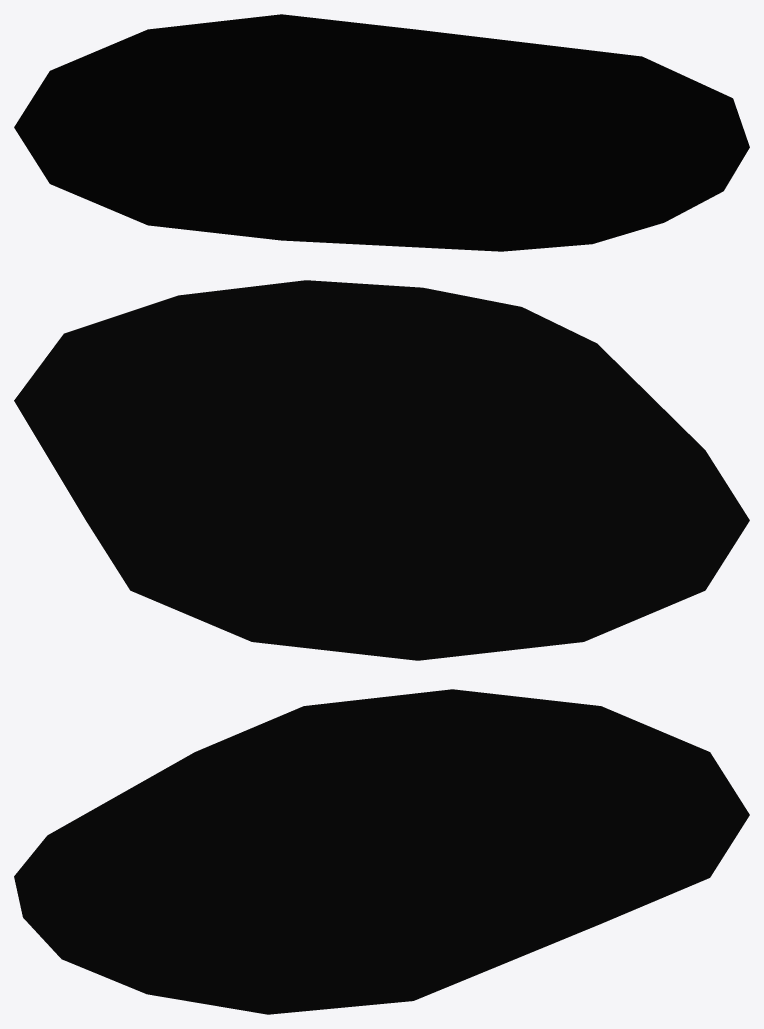
The picture shows the model from 3 angles, top to bottom: view 1: azimuth 30°, elevation 25°; view 2: azimuth 150°, elevation 25°; view 3: azimuth 270°, elevation 25°; orthographic projection. The views are drawn at different scales.
Parts seen in each view (by area): view 1: Joint_0_Object_0; view 2: Joint_0_Object_0; view 3: Joint_0_Object_0.
Boxes of the visible parts, x1,y1,x2,y2 form: Joint_0_Object_0: (14,14,749,251); Joint_0_Object_0: (14,280,749,660); Joint_0_Object_0: (14,689,749,1014).
Size of the model in its own units: 186 by 0 by 178.
1 material, 1 textured.
